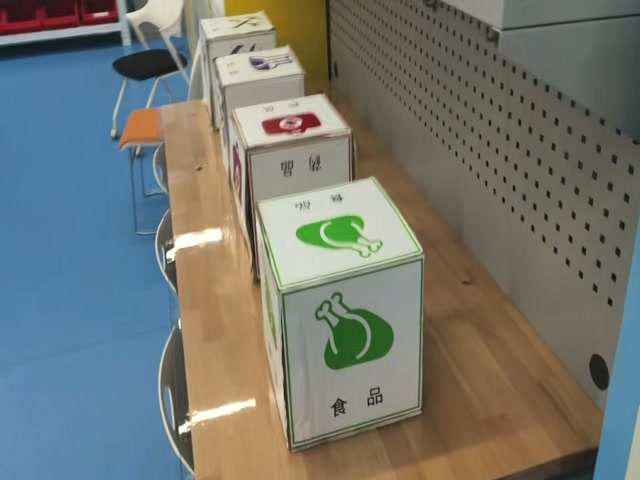Cube_food: (248, 176, 423, 296)
Cube_ins: (213, 45, 306, 91)
Cube_medicine: (226, 93, 351, 149)
Cube_tool: (198, 11, 279, 43)
